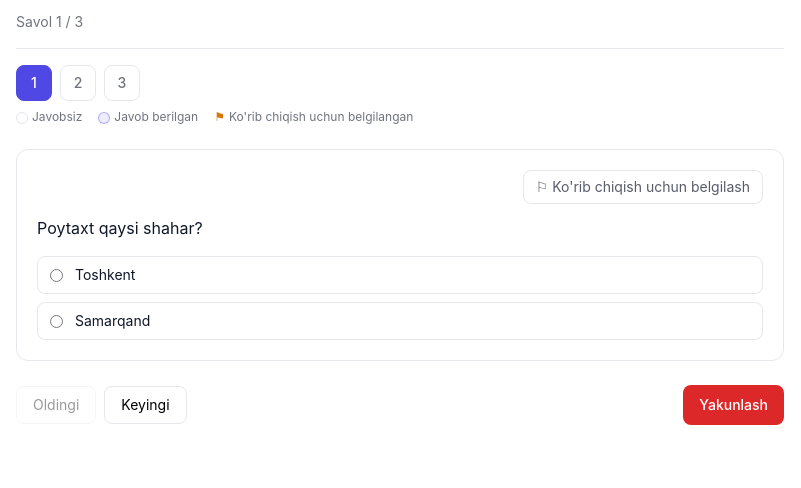
it: AttemptPage — Sprint 67 (C2) multiple_choice support › TEST 9: multiple_choice selections survive navigating to another question and back
Expected: the text "Toshkent" is shown, [75, 265, 135, 285]
Click the button "Keyingi": (145, 405) [104, 386, 187, 424]
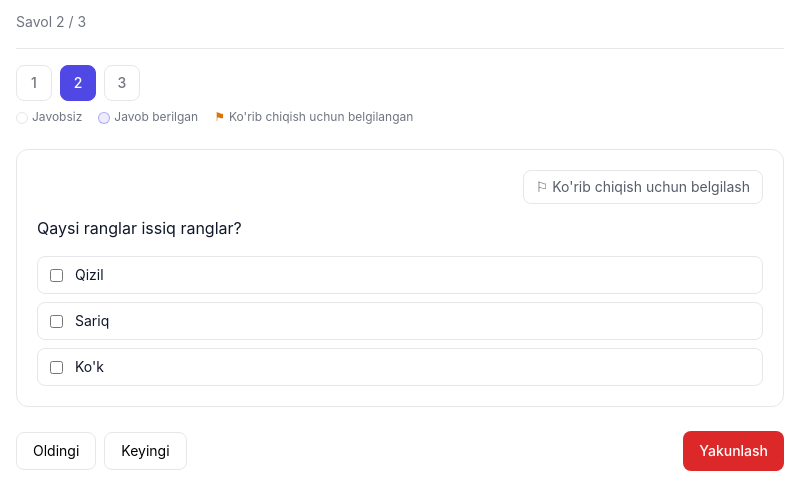
Expected: the text "Qizil" is shown, [75, 265, 104, 285]
Click the checkbox labelled "Qizil": (56, 275) [50, 268, 63, 282]
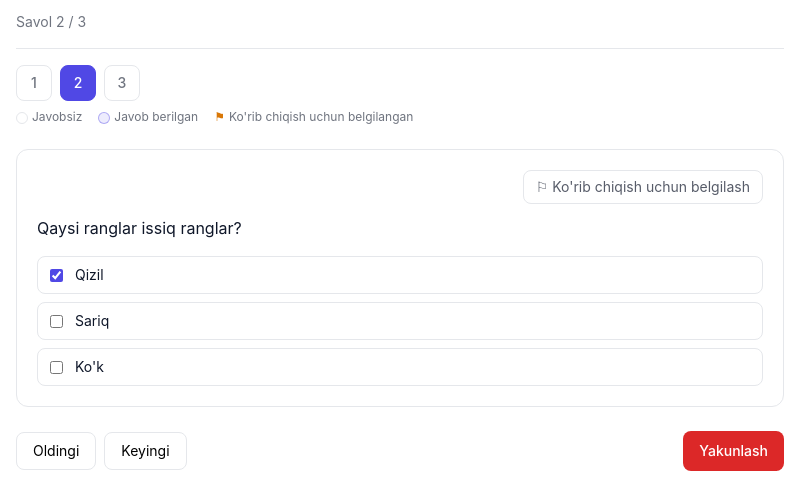
Expected: the checkbox labelled "Qizil" is checked, [50, 268, 63, 282]
Click the checkbox labelled "Sariq": (56, 321) [50, 314, 63, 328]
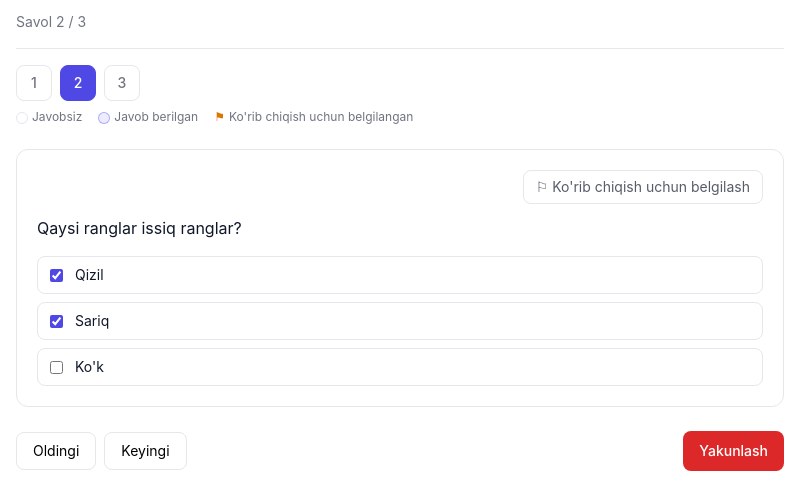
Expected: the checkbox labelled "Sariq" is checked, [50, 314, 63, 328]
Click the button "Keyingi": (145, 451) [104, 432, 187, 470]
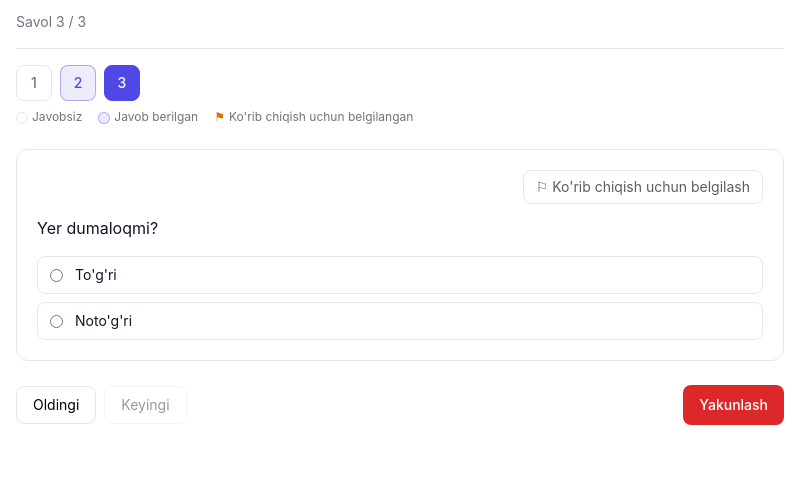
Expected: the text "To'g'ri" is shown, [75, 265, 117, 285]
Click the button "Oldingi": (56, 405) [16, 386, 96, 424]
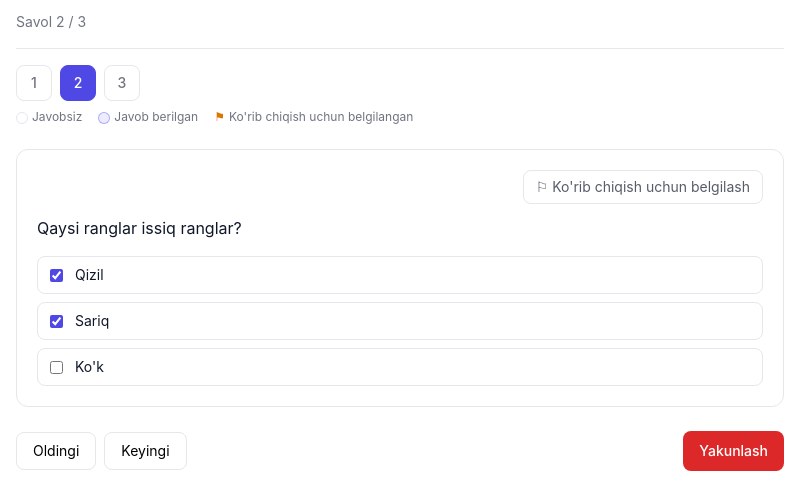
Expected: the text "Qizil" is shown, [75, 265, 104, 285]
Expected: the checkbox labelled "Qizil" is checked, [50, 268, 63, 282]
Expected: the checkbox labelled "Sariq" is checked, [50, 314, 63, 328]
